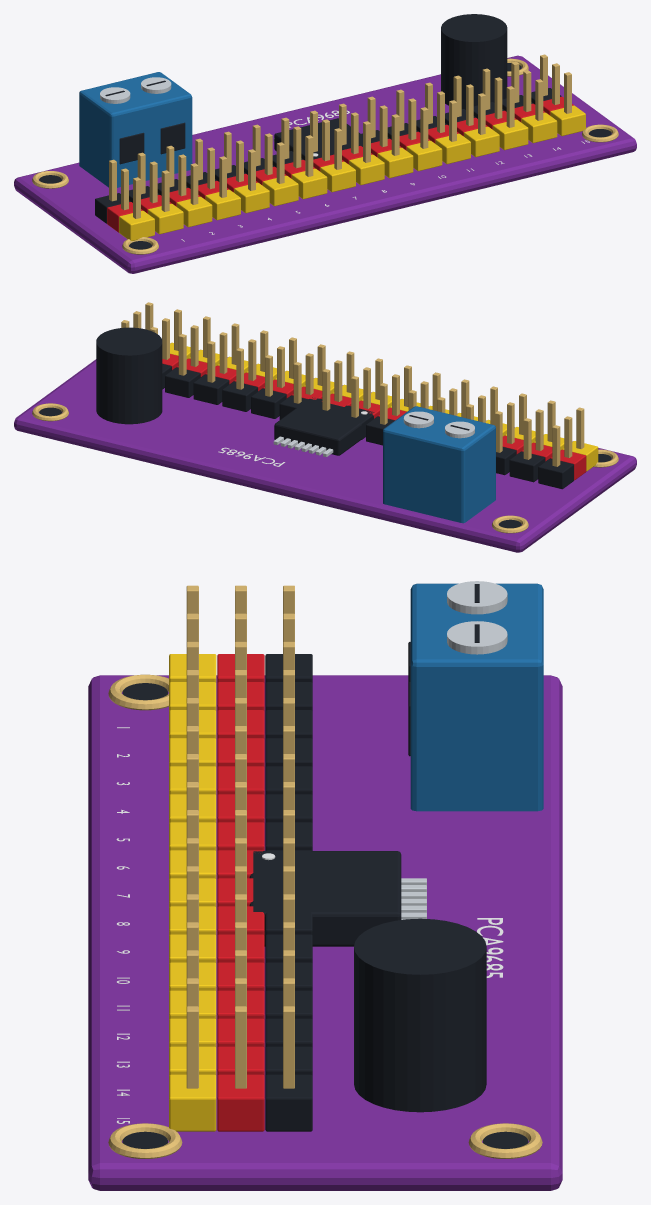
File: servo-driver.glb
3 renders of one model, top to bottom at view 1: azimuth 30°, elevation 25°; view 2: azimuth 150°, elevation 25°; view 3: azimuth 270°, elevation 25°, orthographic. The views are drawn at different scales.
Parts seen in each view (by area): view 1: Static body • pcbPurple, Static body • gold, Static body • yellow, Static body • black, Static body • blue, Static body • red, Static body • silver; view 2: Static body • pcbPurple, Static body • black, Static body • gold, Static body • blue, Static body • red, Static body • yellow, Static body • silver; view 3: Static body • pcbPurple, Static body • black, Static body • blue, Static body • gold, Static body • yellow, Static body • red, Static body • silver, Static body • white.
Boxes of the visible parts, box(x1,y1,x2,y2) form: Static body • pcbPurple: box(14, 55, 636, 273); Static body • gold: box(32, 54, 618, 254); Static body • yellow: box(119, 105, 585, 240); Static body • black: box(39, 14, 611, 249); Static body • blue: box(79, 72, 192, 187); Static body • red: box(107, 96, 573, 232); Static body • silver: box(100, 77, 274, 141); Static body • pcbPurple: box(14, 357, 636, 552); Static body • black: box(39, 327, 611, 528); Static body • gold: box(32, 302, 618, 533); Static body • blue: box(383, 406, 495, 523); Static body • red: box(162, 354, 586, 480); Static body • yellow: box(170, 342, 598, 471); Static body • silver: box(273, 411, 474, 457); Static body • pcbPurple: box(88, 675, 562, 1190); Static body • black: box(122, 584, 528, 1148); Static body • blue: box(410, 583, 543, 811); Static body • gold: box(108, 585, 542, 1158); Static body • yellow: box(169, 654, 216, 1131); Static body • red: box(217, 654, 264, 1131); Static body • silver: box(401, 581, 507, 919); Static body • white: box(116, 727, 503, 1123).
Bounding box in the file's own units: 62 × 10.79 × 25.
